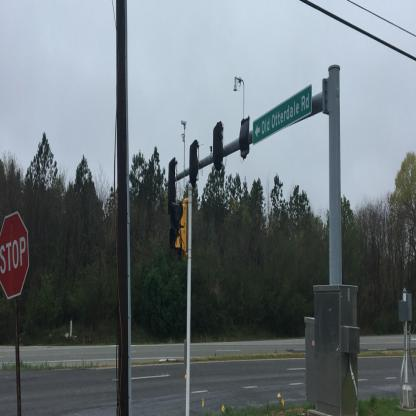Traffic Signal: (171, 201, 188, 252)
